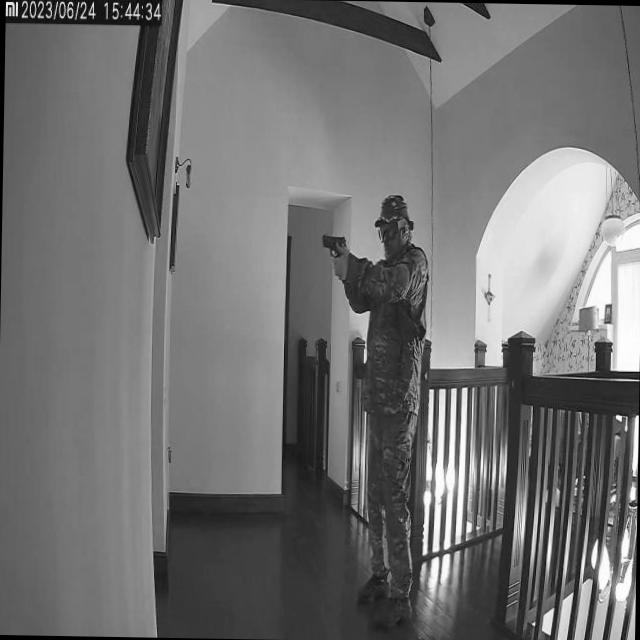gun: (318, 226, 351, 271)
person with a gun: (344, 194, 430, 630)
